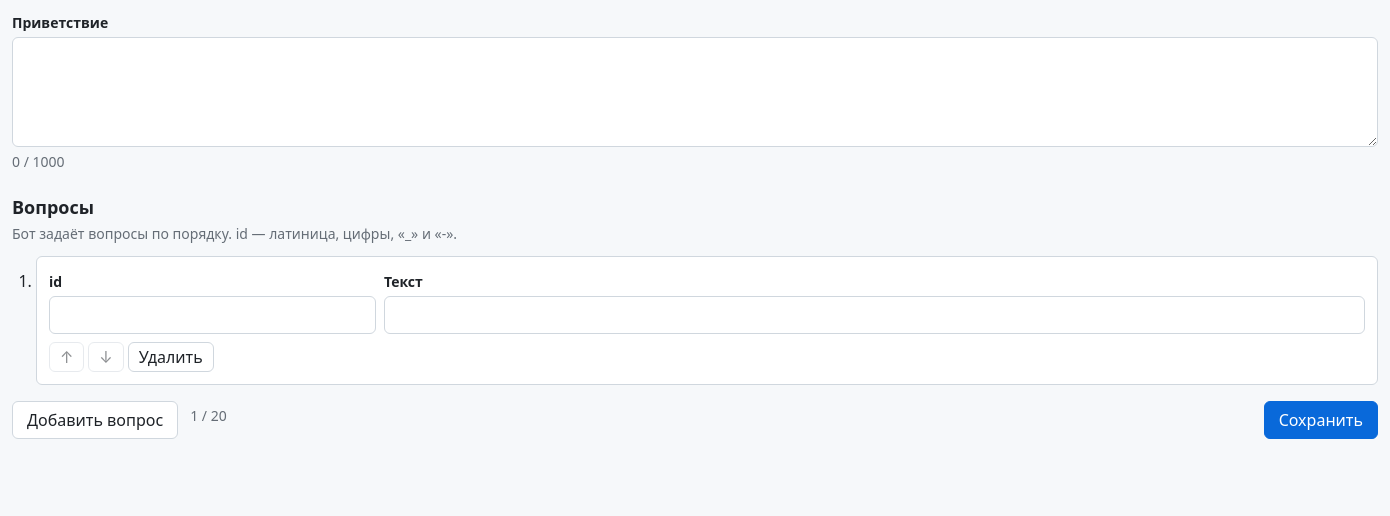
Scenario: saves the survey
In the text box labelled "Приветствие": point(695, 92) [12, 37, 1378, 147], type "Привет!"
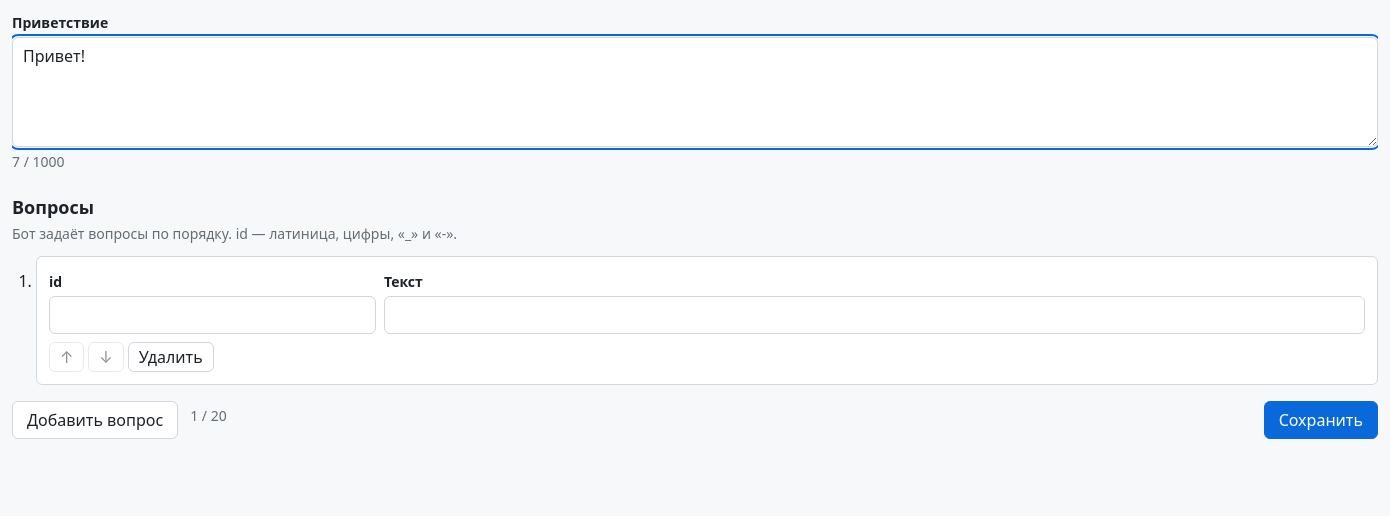
In the field labelled "id": point(212, 314) [49, 296, 376, 334], type "date"
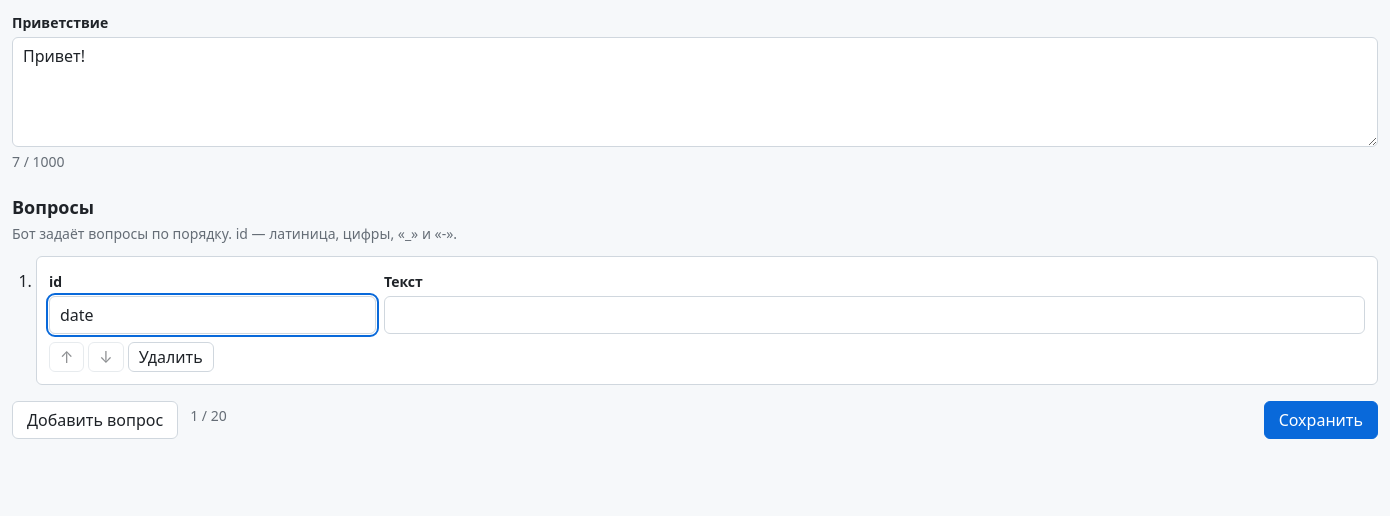
In the field labelled "Текст": point(874, 314) [384, 296, 1365, 334], type "На какую дату?"
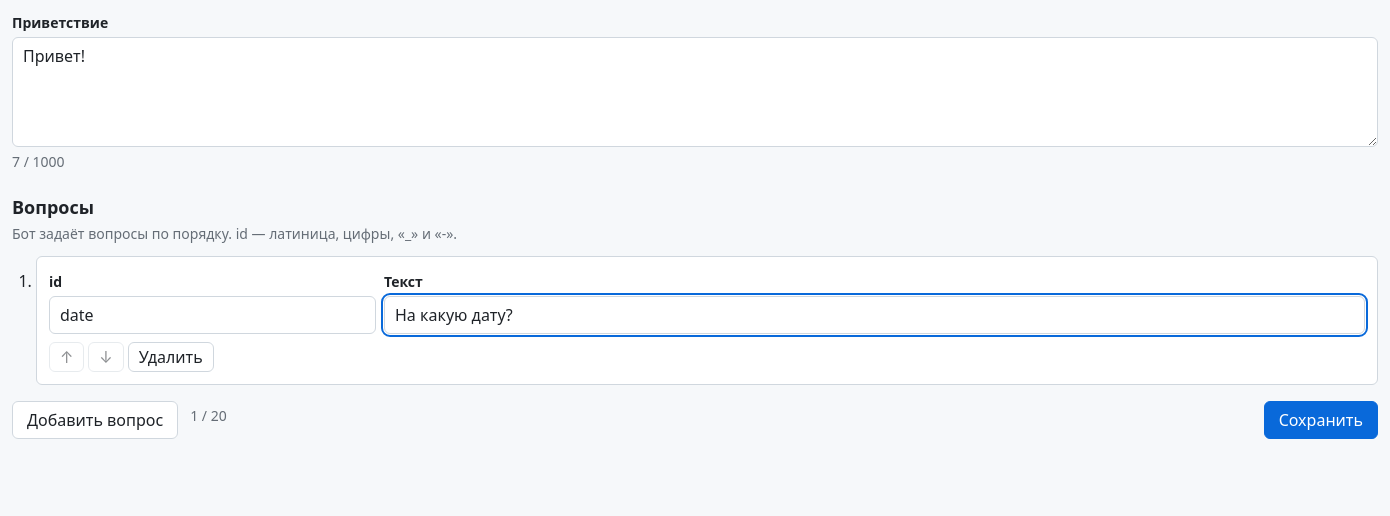
Click the button "Сохранить": point(1321, 420) [1264, 400, 1378, 438]
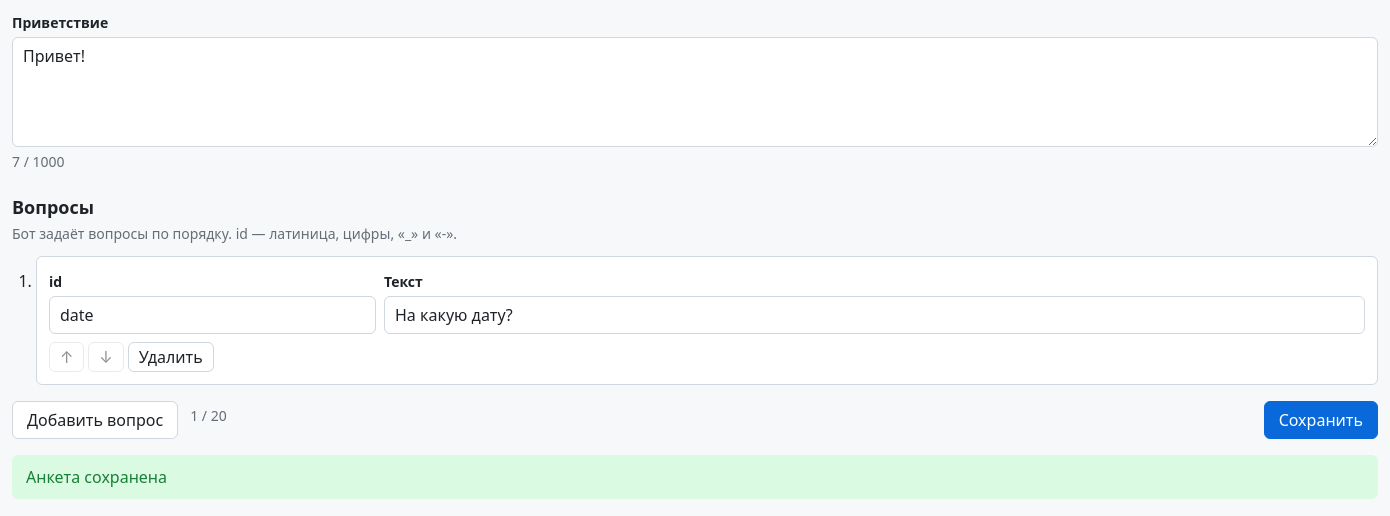
Result: the message reads "Анкета сохранена" at [26, 466, 167, 488]
